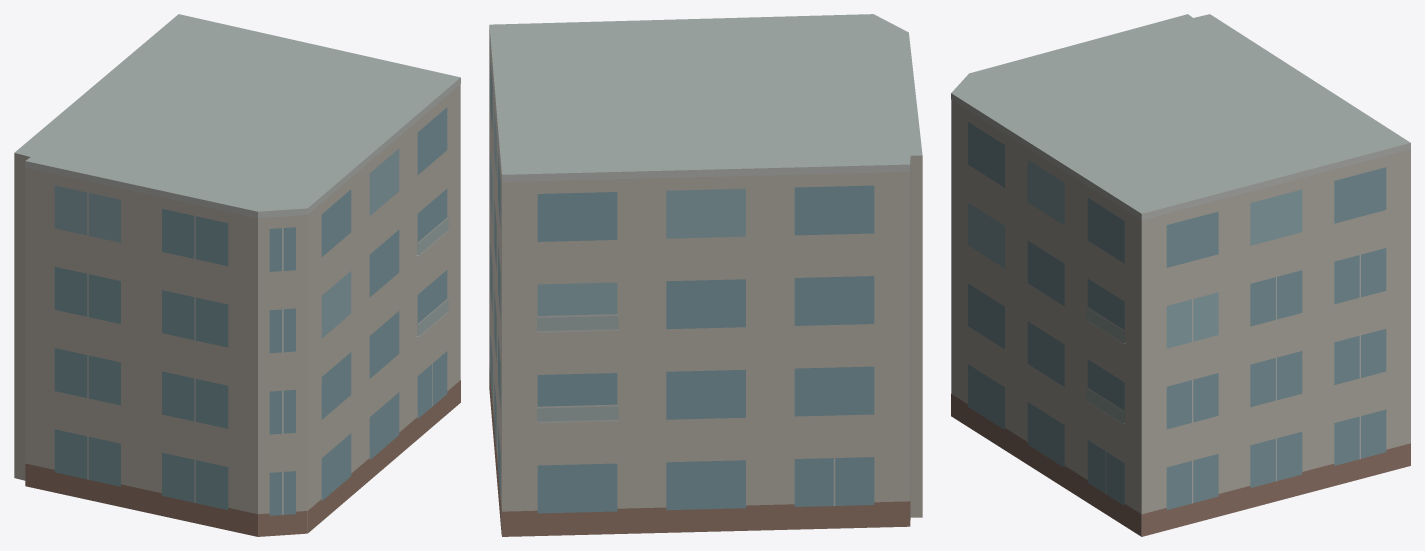
The model's file is survey-upis-32987646.glb.
3 views of the same model, side by side, from view 1: azimuth 30°, elevation 25°; view 2: azimuth 150°, elevation 25°; view 3: azimuth 270°, elevation 25° (orthographic). The views are drawn at different scales.
Parts seen in each view (by area): view 1: survey-upis-32987646.tmp; view 2: survey-upis-32987646.tmp; view 3: survey-upis-32987646.tmp.
Boxes of the visible parts, x1,y1,x2,y2 form: survey-upis-32987646.tmp: [14, 14, 460, 536]; survey-upis-32987646.tmp: [489, 14, 922, 536]; survey-upis-32987646.tmp: [951, 14, 1410, 536].
Bounding box in the file's own units: 16.2 × 12.2 × 15.75.
